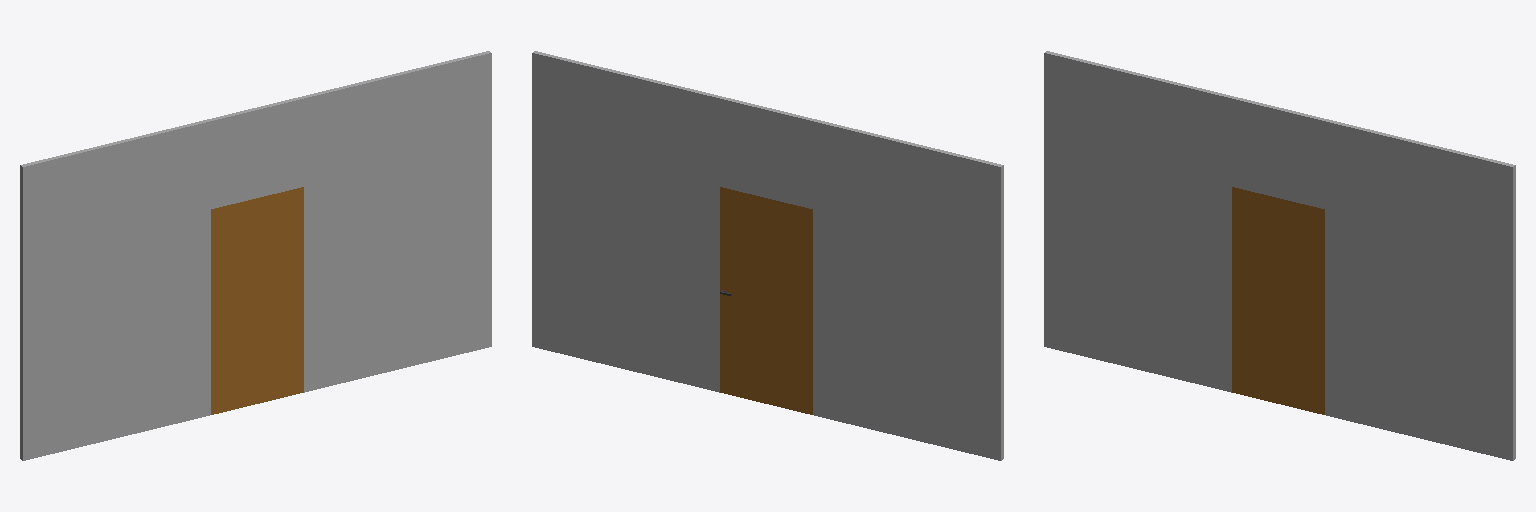
The robot description file, URDF, robot "wall_with_single_door":
<?xml version="1.0"?>
<robot name="wall_with_single_door">
  <!-- WALL AND DOOR AS BEFORE -->

  <link name="wall_base">
    <inertial>
      <origin xyz="0 0 0" rpy="0 0 0" />
      <mass value="1.0" />
      <inertia ixx="0.001" ixy="0.0" ixz="0.0" iyy="0.001" iyz="0.0" izz="0.001" />
    </inertial>
  </link>

  <!-- LEFT PANEL -->
  <link name="wall_left">
    <visual>
      <origin xyz="-1.5 0 1.5" />
      <geometry>
        <box size="2.0 0.05 3.0" />
      </geometry>
      <material name="grey"><color rgba="0.7 0.7 0.7 1.0"/></material>
    </visual>
    <collision>
      <origin xyz="-1.5 0 1.5" />
      <geometry>
        <box size="2.0 0.05 3.0" />
      </geometry>
    </collision>
  </link>

  <joint name="wall_left_fixed" type="fixed">
    <parent link="wall_base"/>
    <child  link="wall_left"/>
  </joint>

  <!-- RIGHT PANEL -->
  <link name="wall_right">
    <visual>
      <origin xyz="1.5 0 1.5" />
      <geometry>
        <box size="2.0 0.05 3.0" />
      </geometry>
      <material name="grey"><color rgba="0.7 0.7 0.7 1.0"/></material>
    </visual>
    <collision>
      <origin xyz="1.5 0 1.5" />
      <geometry>
        <box size="2.0 0.05 3.0" />
      </geometry>
    </collision>
  </link>

  <joint name="wall_right_fixed" type="fixed">
    <parent link="wall_base"/>
    <child  link="wall_right"/>
  </joint>

  <!-- LINTEL -->
  <link name="wall_lintel">
    <visual>
      <origin xyz="0 0 2.55" />
      <geometry>
        <box size="5.0 0.05 0.9" />
      </geometry>
      <material name="grey"><color rgba="0.7 0.7 0.7 1.0"/></material>
    </visual>
    <collision>
      <origin xyz="0 0 2.55" />
      <geometry>
        <box size="5.0 0.05 0.9" />
      </geometry>
    </collision>
  </link>

  <joint name="wall_lintel_fixed" type="fixed">
    <parent link="wall_base"/>
    <child  link="wall_lintel"/>
  </joint>

  <!-- DOOR -->
  <link name="door">
    <visual>
      <origin xyz="0.5 0 1.05" />
      <geometry>
        <box size="1.0 0.05 2.1" />
      </geometry>
      <material name="wood"><color rgba="0.65 0.45 0.2 1.0"/></material>
    </visual>
    <collision>
      <origin xyz="0.5 0 1.05" />
      <geometry>
        <box size="1.0 0.05 2.1" />
      </geometry>
    </collision>
    <inertial>
      <origin xyz="0.5 0 1.05" />
      <mass value="1.0" />
      <inertia ixx="0.1" ixy="0.0" ixz="0.0" iyy="0.1" iyz="0.0" izz="0.1" />
    </inertial>
  </link>

  <joint name="door_hinge" type="revolute">
    <parent link="wall_base" />
    <child  link="door" />
    <origin xyz="-0.5 0 0.0" />
    <axis xyz="0 0 1" />
    <limit effort="1.0" velocity="5.0" lower="-1.5708" upper="1.5708" />
    <dynamics damping="0.5" friction="0.0" />
  </joint>

  <!-- ✅ FIXED DOOR HANDLE (L-shaped) -->
  <link name="door_handle">
    <!-- tvoří tvar písmene L-->
    <visual>
      <!-- horizontální část (trubka směrem ven) -->
      <origin xyz="0.9 0.075 1.05" rpy="0 0 0" />
      <geometry>
        <box size="0.1 0.02 0.02" />
      </geometry>
      <material name="metal"><color rgba="0.3 0.3 0.3 1.0"/></material>
    </visual>

    <visual>
      <!-- svislá část (nahoru dolů) -->
      <origin xyz="0.95 0.035 1.05" rpy="0 0 0" />
      <geometry>
        <box size="0.02 0.1 0.02" />
      </geometry>
      <material name="metal"/>
    </visual>

    <collision>
      <origin xyz="1.0 0.075 1.14" />
      <geometry>
        <box size="0.2 0.02 0.2" />
      </geometry>
    </collision>
    <inertial>
      <mass value="0.2" />
      <inertia ixx="0.001" ixy="0.0" ixz="0.0" iyy="0.001" iyz="0.0" izz="0.001" />
    </inertial>
  </link>

  <!-- Klika připojená pevně k dveřím -->
  <joint name="door_handle_fixed" type="fixed">
    <parent link="door"/>
    <child link="door_handle"/>
    <origin xyz="0 0 0" />
  </joint>

</robot>

--- Facts derived from the render (not from the file) ---
Views: 3 orthographic renders of the robot side by side, from view 1: azimuth 30°, elevation 25°; view 2: azimuth 150°, elevation 25°; view 3: azimuth 330°, elevation 25°.
Robot: wall_with_single_door — 6 links, 5 joints (1 revolute, 4 fixed); root link wall_base; default pose: every joint at zero.
Visible links, largest first — view 1: wall_left, wall_right, door, wall_lintel; view 2: wall_right, wall_left, door, wall_lintel; view 3: wall_right, wall_left, door, wall_lintel.
Boxes of the visible links, bbox=[...] form: wall_left: bbox=[20, 119, 210, 460]; wall_right: bbox=[303, 51, 491, 392]; door: bbox=[211, 187, 303, 414]; wall_lintel: bbox=[20, 53, 491, 254]; wall_right: bbox=[532, 51, 721, 392]; wall_left: bbox=[813, 119, 1003, 460]; door: bbox=[720, 187, 812, 414]; wall_lintel: bbox=[532, 51, 1003, 253]; wall_right: bbox=[1325, 119, 1515, 460]; wall_left: bbox=[1044, 51, 1233, 392]; door: bbox=[1232, 187, 1324, 414]; wall_lintel: bbox=[1044, 51, 1515, 254].
Size in the robot's own frame: 5 by 0.11 by 3 metres.
Geometry: primitives only (box / cylinder / sphere), no mesh files.
